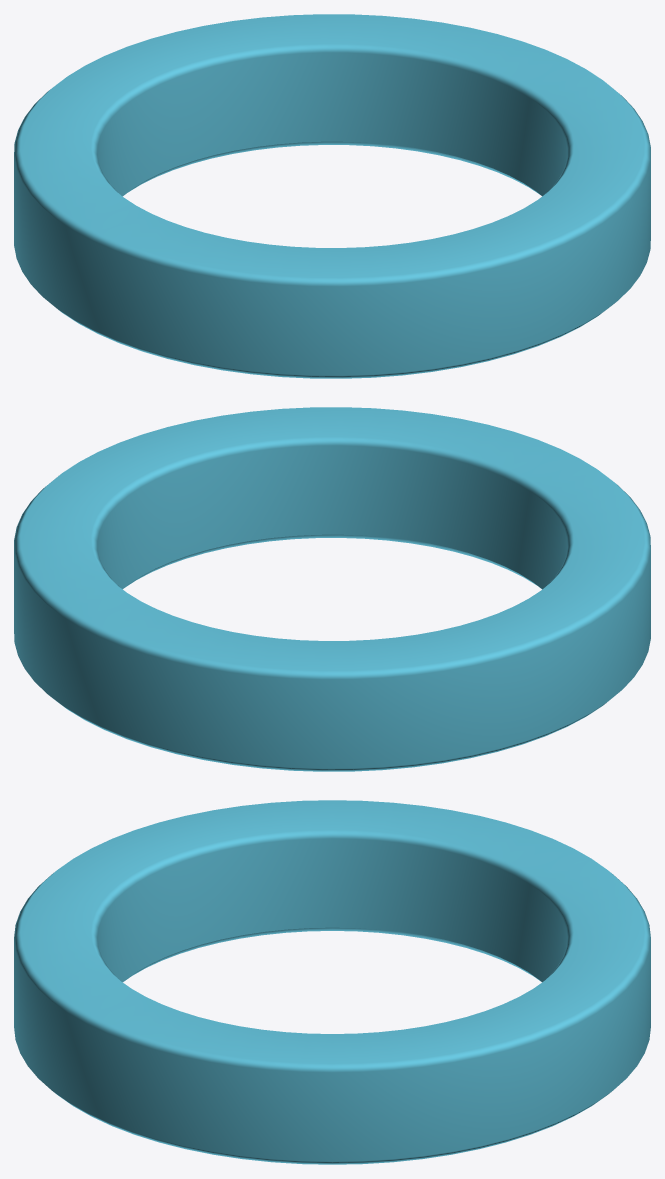
The picture shows the model from 3 angles, top to bottom: view 1: azimuth 30°, elevation 25°; view 2: azimuth 150°, elevation 25°; view 3: azimuth 270°, elevation 25°; orthographic projection.
Parts seen in each view (by area): view 1: seal_body; view 2: seal_body; view 3: seal_body.
Part boxes in pixels (x1,y1,x2,y2): seal_body: (14, 14, 650, 378); seal_body: (14, 407, 650, 771); seal_body: (14, 800, 650, 1164).
Bounding box in the file's own units: 0.08 × 0.014 × 0.08.
